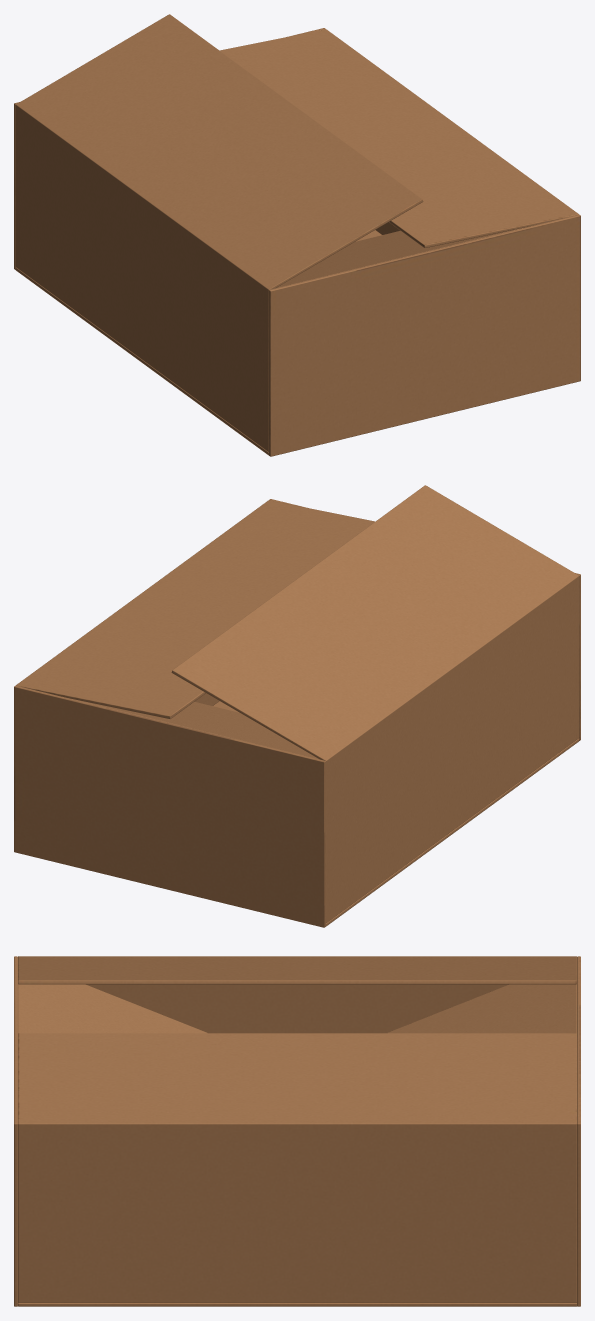
The picture shows the model from 3 angles, top to bottom: view 1: azimuth 30°, elevation 25°; view 2: azimuth 150°, elevation 25°; view 3: azimuth 270°, elevation 25°; orthographic projection. The views are drawn at different scales.
Visible parts, largest first — view 1: FG Box 1.Shape; view 2: FG Box 1.Shape; view 3: FG Box 1.Shape.
Part boxes in pixels (box(x1,y1,x2,y2)): FG Box 1.Shape: box(14, 14, 580, 456); FG Box 1.Shape: box(14, 485, 580, 927); FG Box 1.Shape: box(14, 956, 580, 1306).
Bounding box in the file's own units: 35.04 × 23.6 × 50.14.
1 material, 1 textured.
